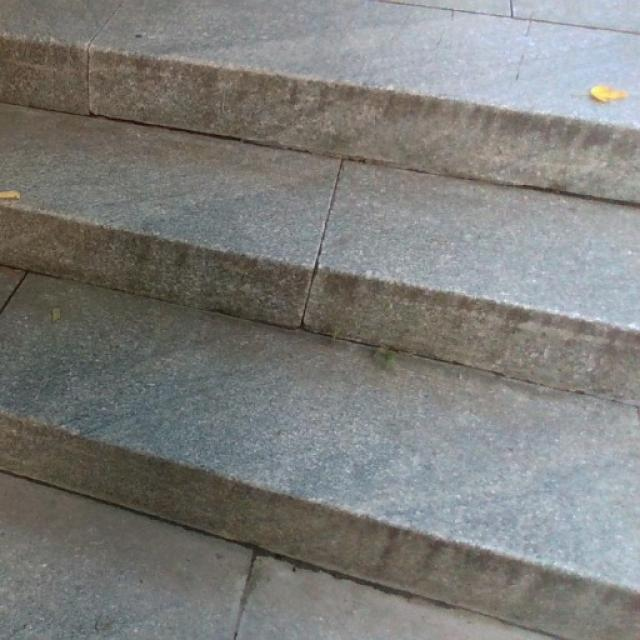Stairs: (0, 2, 639, 638)
